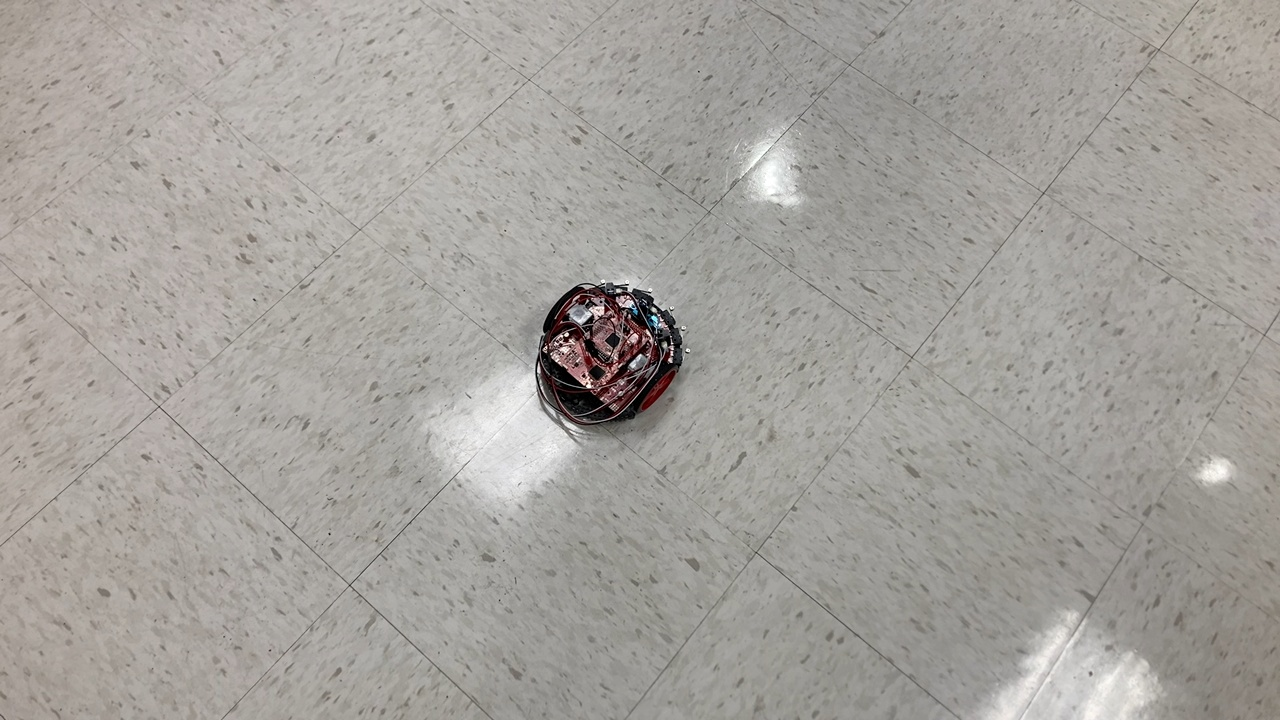robot: (531, 278, 698, 435)
